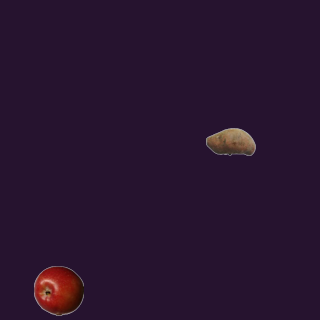Apple Braeburn: (33, 265, 83, 315)
Potato Sweet: (205, 116, 255, 166)
